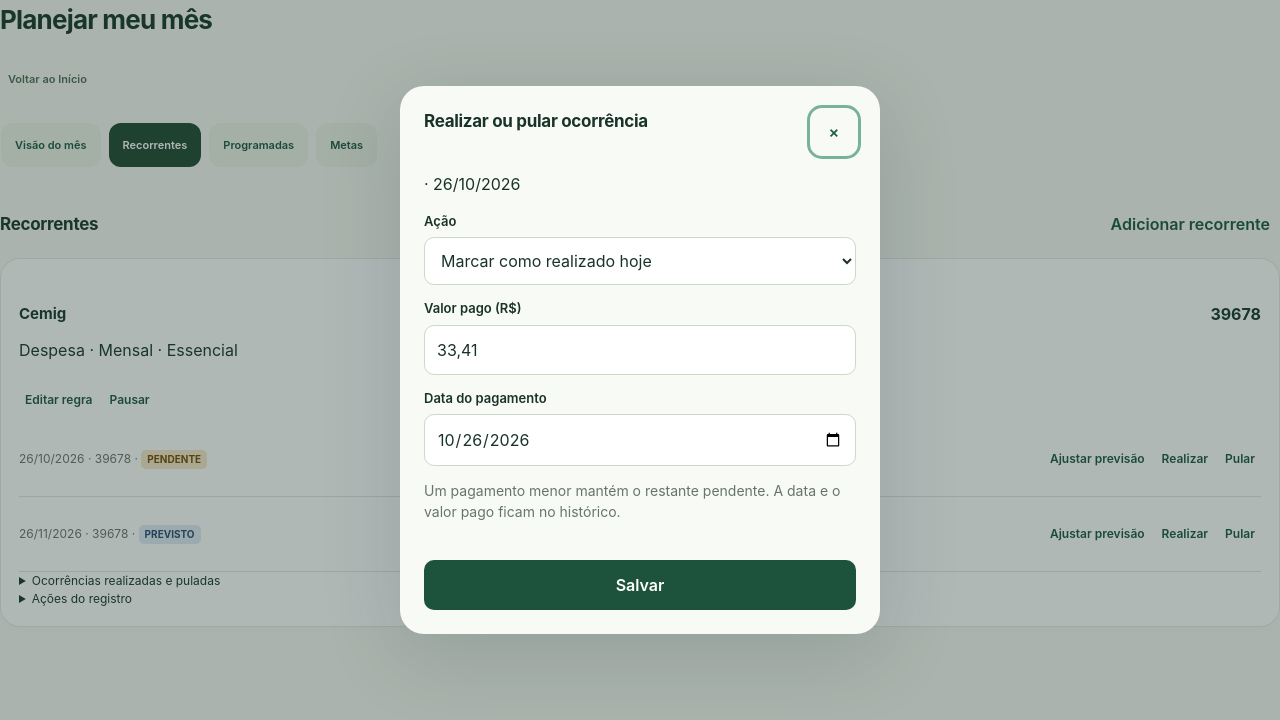
Test: missing recurring reference gives a useful error for skip without RPC
Select "Pular ocorrência" in the dropdown labelled "Ação" at {"x": 640, "y": 261}, box 424,237 -> 856,285
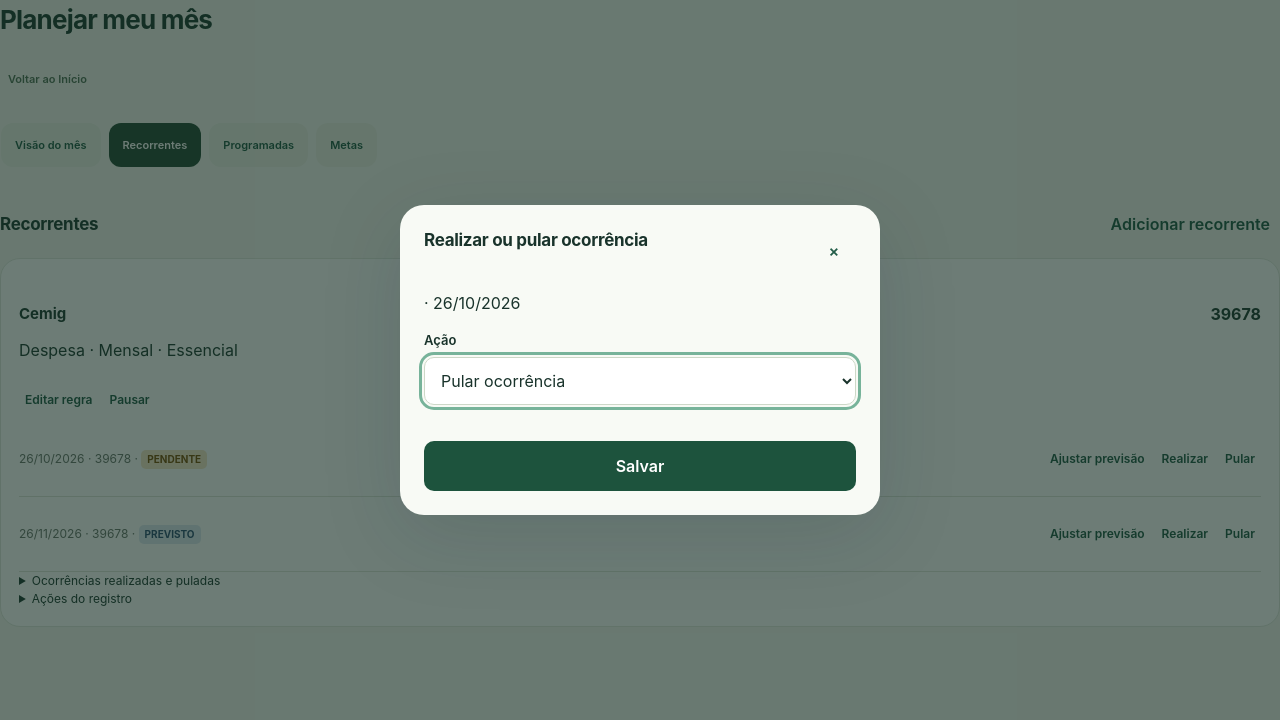
Click the button "Salvar" at {"x": 640, "y": 466}, box 424,441 -> 856,491
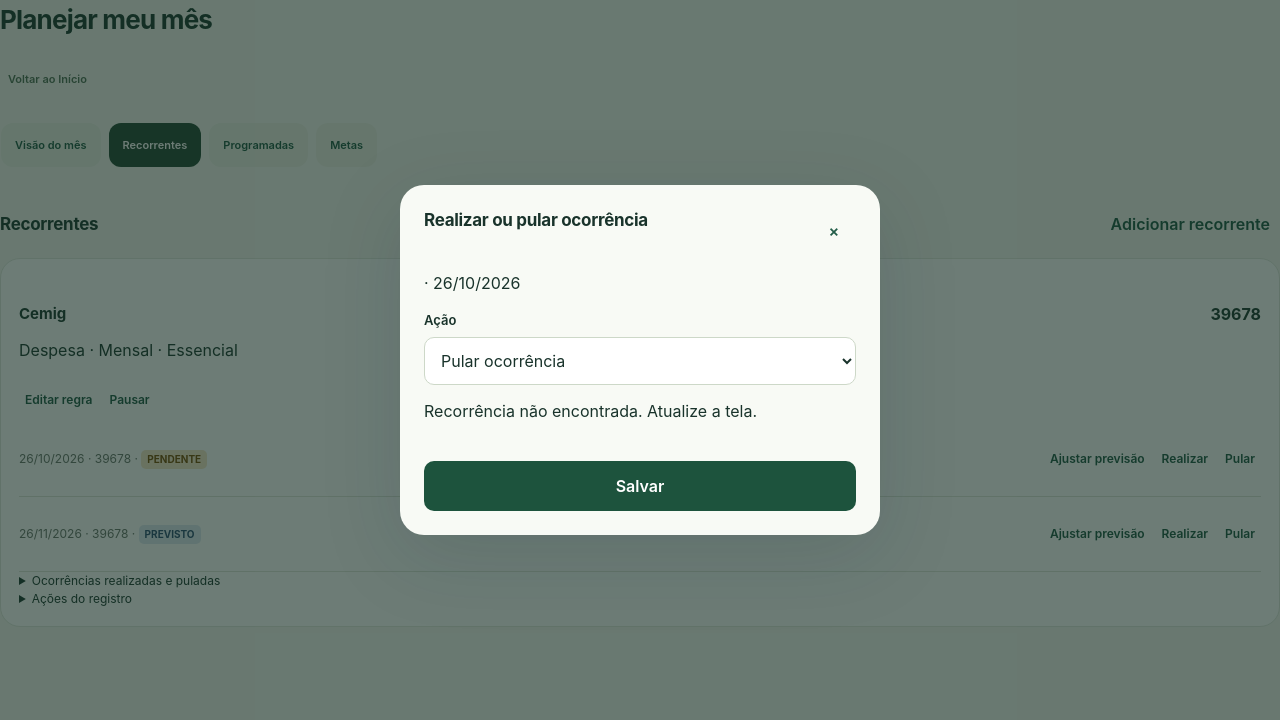
Result: the message shows "Recorrência não encontrada" at 424,401 -> 757,421
